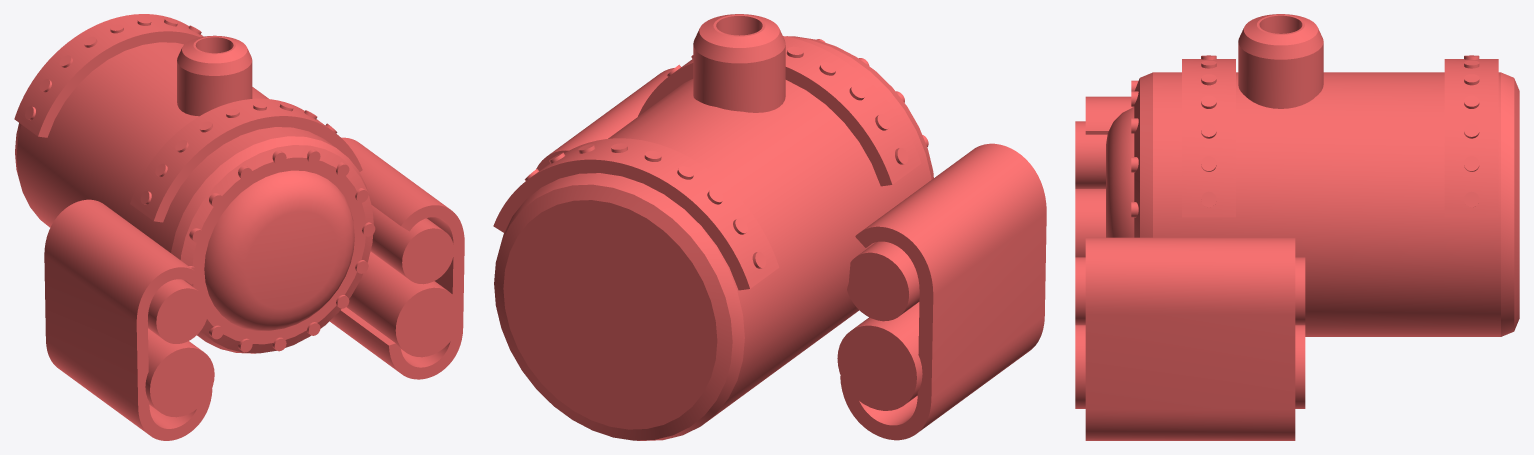
Rendered from engine front export.fbx.
3 views of the same model, side by side, from view 1: azimuth 30°, elevation 25°; view 2: azimuth 150°, elevation 25°; view 3: azimuth 270°, elevation 25° (orthographic). The views are drawn at different scales.
Visible parts, largest first — view 1: engine_front_1; view 2: engine_front_1; view 3: engine_front_1.
Part boxes in pixels (box(x1,y1,x2,y2)): engine_front_1: box(14, 14, 464, 440); engine_front_1: box(493, 14, 1046, 440); engine_front_1: box(1075, 14, 1519, 440).
Size of the model in its own units: 55.41 by 48.58 by 57.22.
